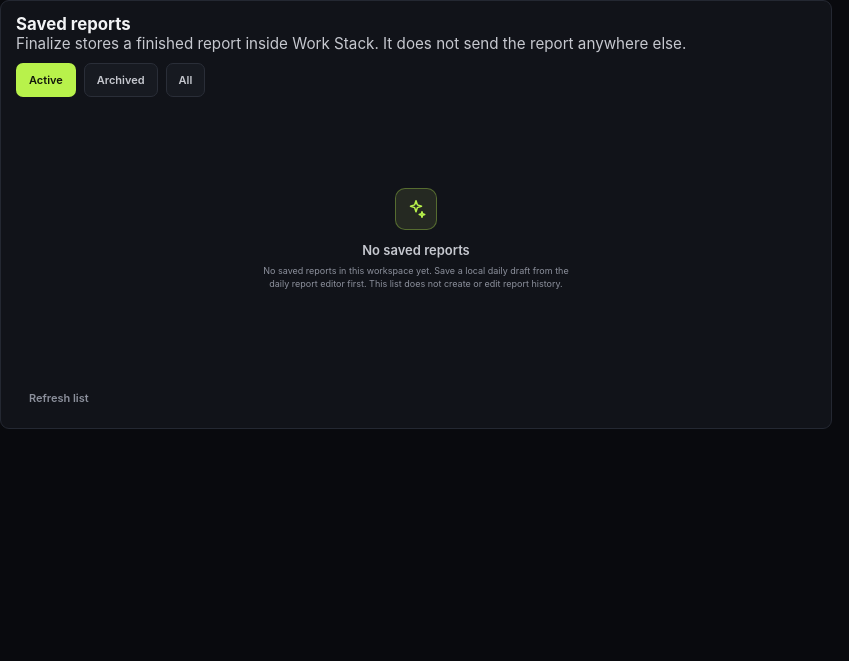
Test: an archived report cannot be revised until it is restored
Click the button "Archived" at (121, 80), box [84,63,158,97]
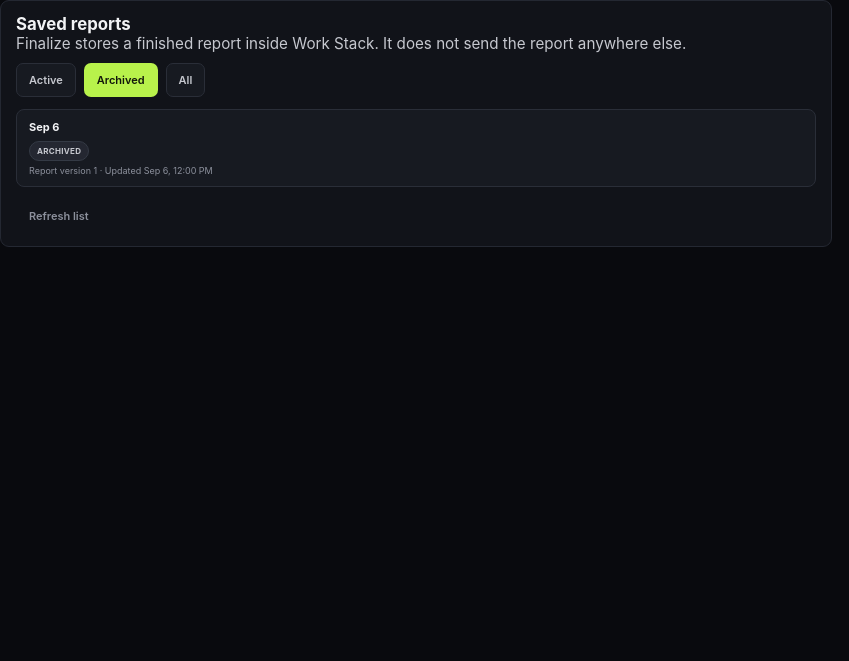
Click the text "Report version 1 · Updated Sep 6, 12:00 PM" at (121, 170), box [29,165,213,176]
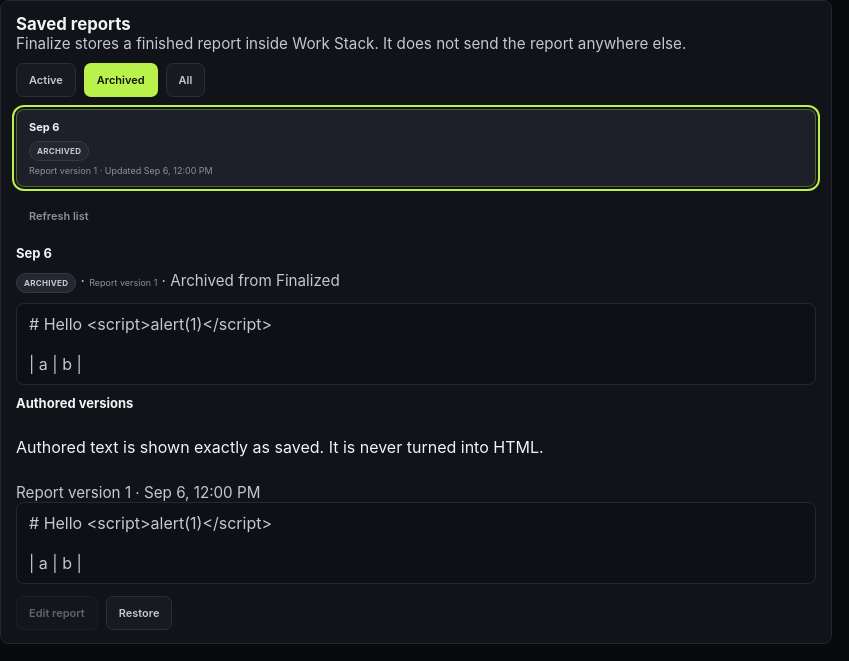
Result: the button "Edit report" is disabled at [16,596,98,630]
